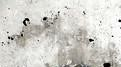Spalling: (1, 10, 121, 45), (102, 62, 111, 67)
